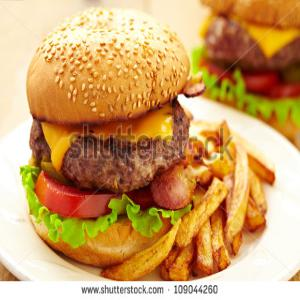cheeseburger_475cal: (7, 10, 203, 276)
fries_350cal: (196, 116, 274, 273)
